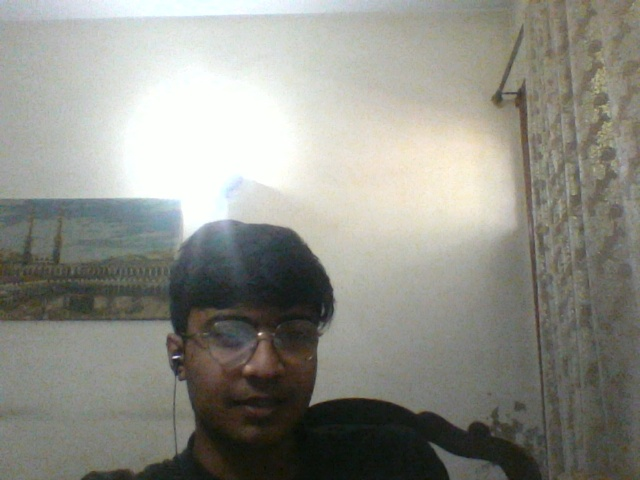happy: (176, 305, 327, 447)
